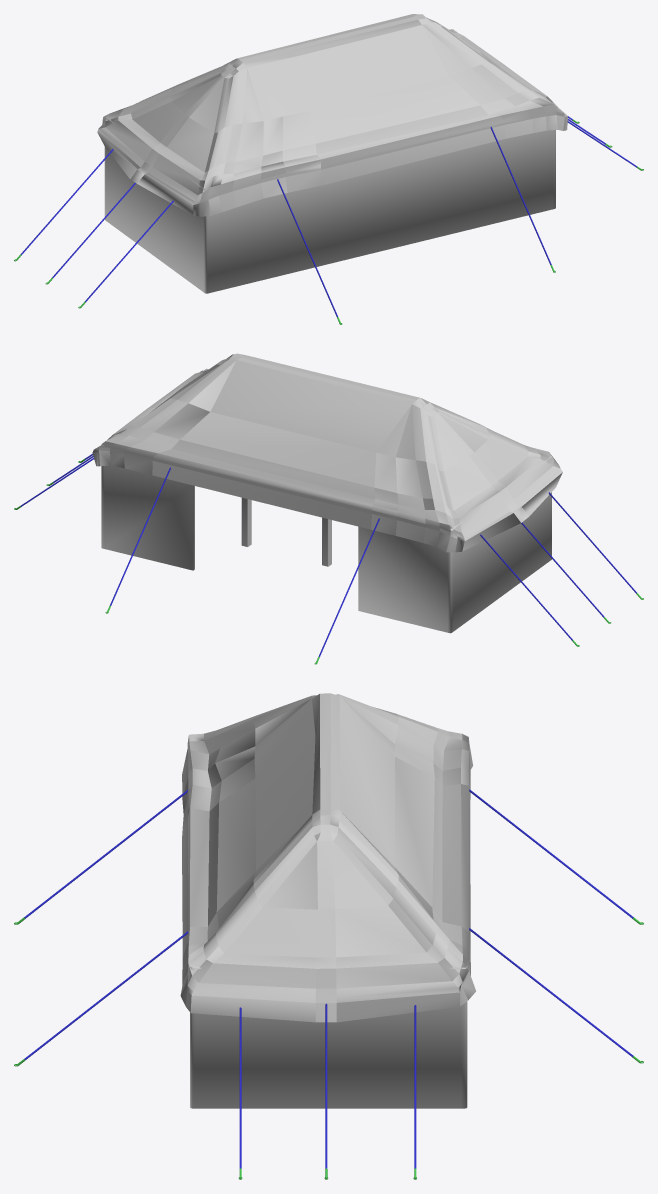
Rendered from MedTent.dae.
3 renders of one model, top to bottom at view 1: azimuth 30°, elevation 25°; view 2: azimuth 150°, elevation 25°; view 3: azimuth 270°, elevation 25°, orthographic. The views are drawn at different scales.
Visible parts, largest first — view 1: Cube.015_Cube.001, Cube.015, Cylinder.003; view 2: Cube.015_Cube.001, Cube.015, Cylinder.003, RoadKillOut.000; view 3: Cube.015_Cube.001, Cube.015, Cylinder.003.
Boxes of the visible parts, <box> form: Cube.015_Cube.001: <box>97,14,567,216</box>; Cube.015: <box>104,31,555,293</box>; Cylinder.003: <box>14,116,643,324</box>; Cube.015_Cube.001: <box>92,353,562,552</box>; Cube.015: <box>101,370,551,633</box>; Cylinder.003: <box>14,454,643,664</box>; RoadKillOut.000: <box>241,497,331,566</box>; Cube.015_Cube.001: <box>180,693,475,1022</box>; Cube.015: <box>190,736,467,1108</box>; Cylinder.003: <box>14,789,643,1179</box>.
Bounding box in the file's own units: 2 × 0.6352 × 1.42.
